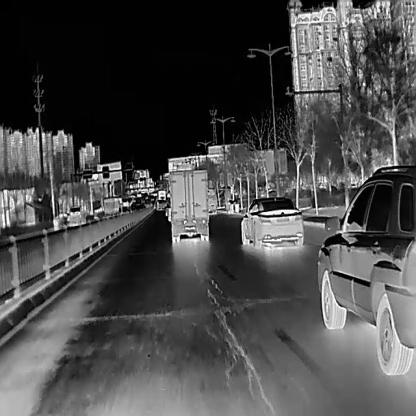bus: (101, 195, 123, 218), (156, 188, 166, 204)
car: (316, 164, 415, 376), (239, 195, 304, 247), (66, 205, 86, 226), (154, 198, 169, 209)
truck: (166, 167, 210, 243)
